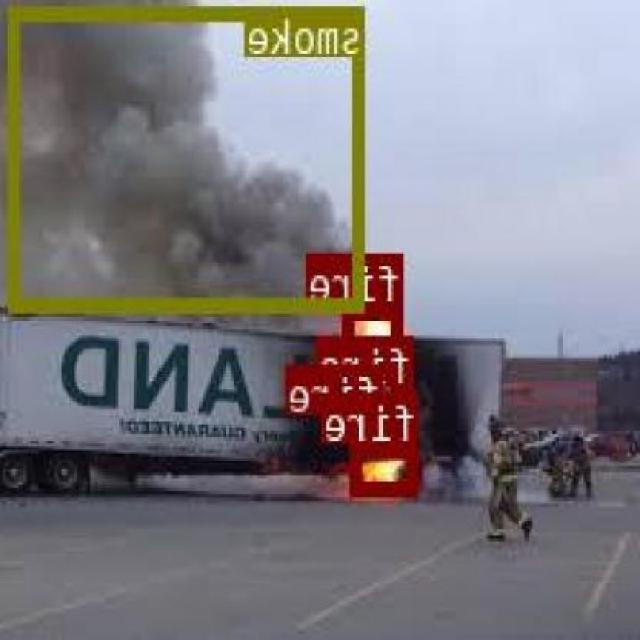Fire: (354, 441, 420, 492), (354, 313, 398, 347)
Smoke: (11, 57, 349, 299)
